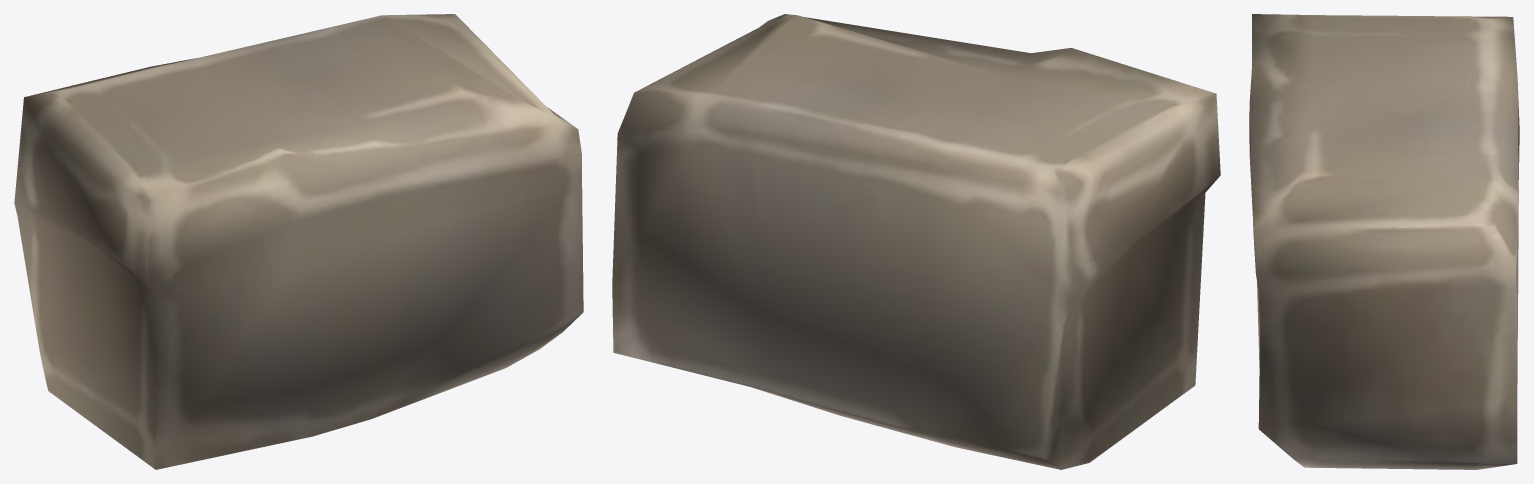
File: Prop_Brick2.glb
3 renders of one model, left to right at view 1: azimuth 30°, elevation 25°; view 2: azimuth 150°, elevation 25°; view 3: azimuth 270°, elevation 25°, orthographic. The views are drawn at different scales.
Parts seen in each view (by area): view 1: Prop_Brick2; view 2: Prop_Brick2; view 3: Prop_Brick2.
Part boxes in pixels (x1,y1,x2,y2): Prop_Brick2: [14, 14, 583, 469]; Prop_Brick2: [612, 14, 1220, 469]; Prop_Brick2: [1249, 14, 1519, 469].
Size of the model in its own units: 0.3954 by 0.2449 by 0.2169.
1 material, 1 textured.
